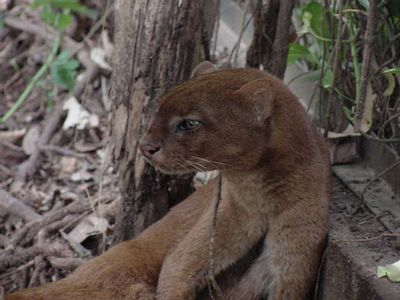Jaguarundi: (94, 59, 335, 293)
